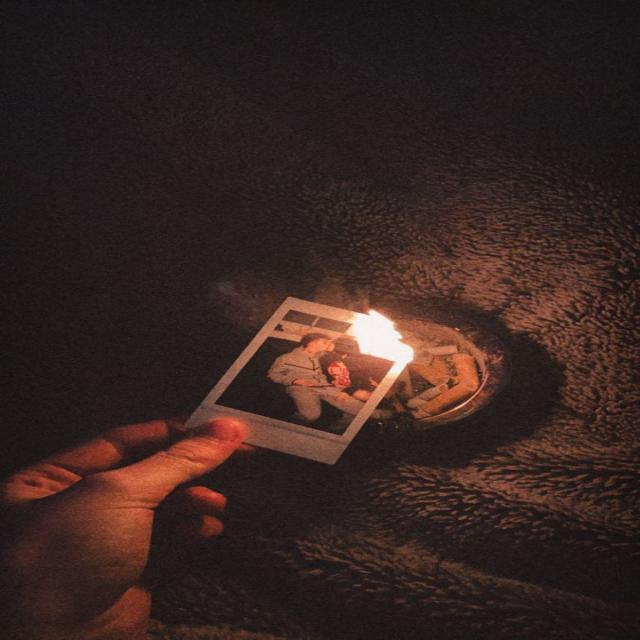fire: (348, 309, 414, 362)
